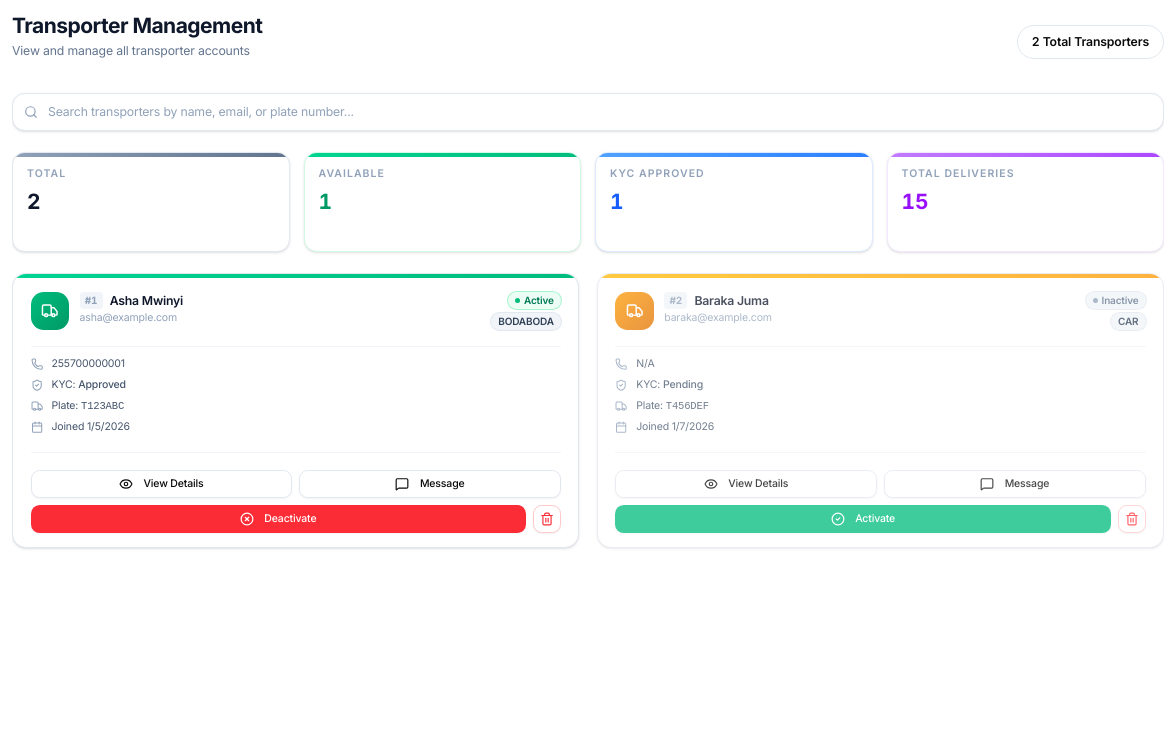
Scenario: TransporterManagementTab › narrows the list to a search match
This screenshot has width=1176, height=732.
expect the heading "Asha Mwinyi" is shown: met, box [110, 293, 183, 308]
In the field with placeholder "Search transporters by name, email, or plate number...": (588, 112) [12, 92, 1164, 131], type "baraka"
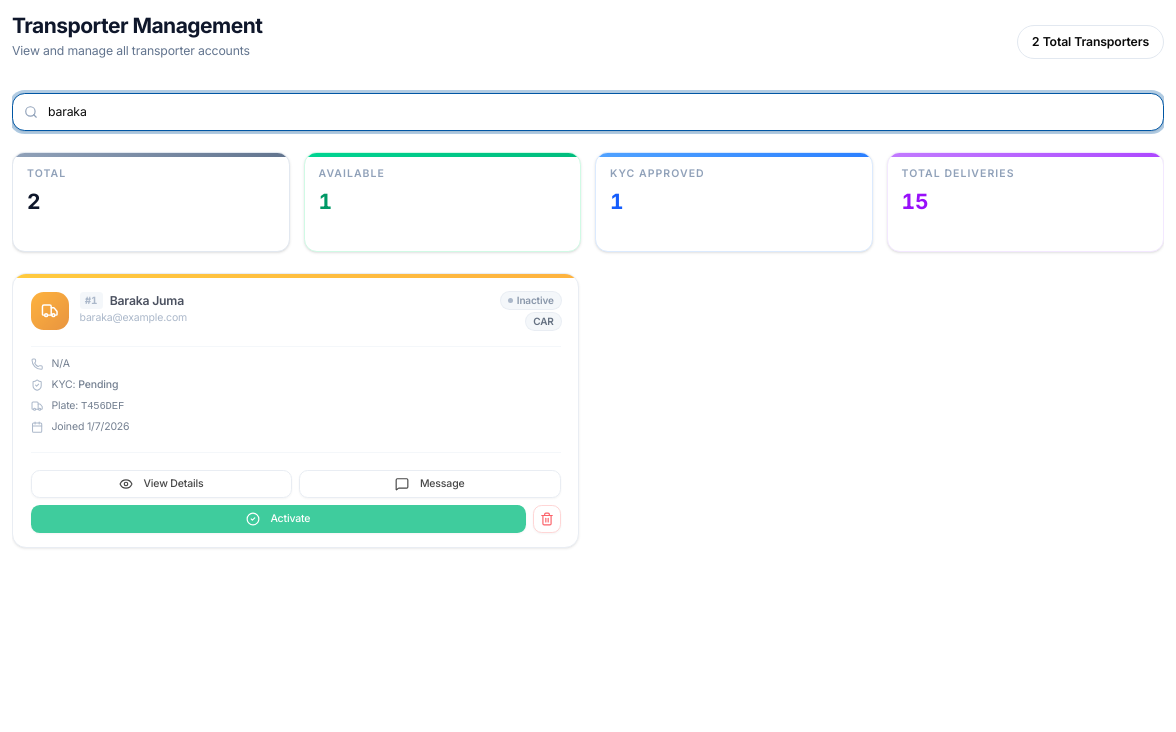
expect the heading "Baraka Juma" is shown: met, box [110, 293, 184, 308]
expect the heading "Asha Mwinyi" is gone: met
